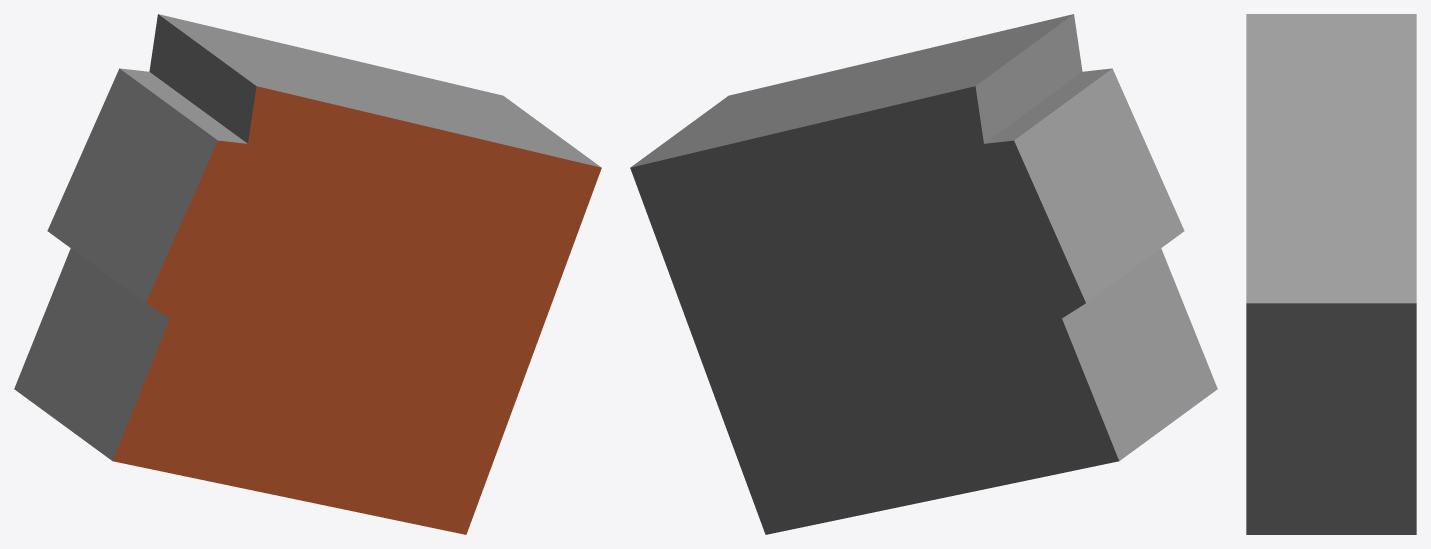
File: construction_3806_assumed_A_Casa_h6m.obj
The picture shows the model from 3 angles, left to right: view 1: azimuth 30°, elevation 25°; view 2: azimuth 150°, elevation 25°; view 3: azimuth 270°, elevation 25°; orthographic projection. The views are drawn at different scales.
Visible parts, largest first — view 1: construction_3806_assumed_A_Casa; view 2: construction_3806_assumed_A_Casa; view 3: construction_3806_assumed_A_Casa.
Boxes of the visible parts, x1,y1,x2,y2 form: construction_3806_assumed_A_Casa: (14, 14, 601, 534); construction_3806_assumed_A_Casa: (630, 14, 1217, 534); construction_3806_assumed_A_Casa: (1246, 14, 1416, 534).
Size of the model in its own units: 17.2 by 16.8 by 6.
